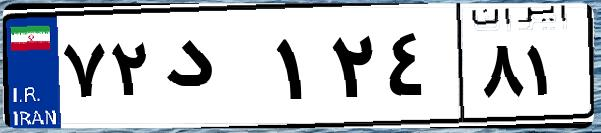1: (270, 28, 330, 110), (525, 38, 570, 115)
2: (330, 28, 385, 110), (110, 28, 158, 98)
4: (385, 28, 445, 110)
7: (57, 26, 110, 100)
8: (475, 38, 525, 113)
د: (158, 20, 270, 120)
